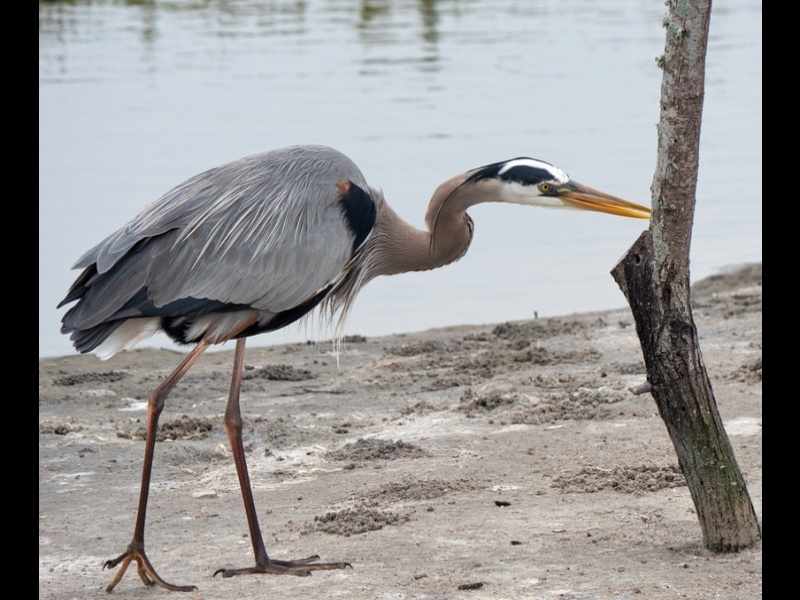heron: (59, 139, 653, 591)
